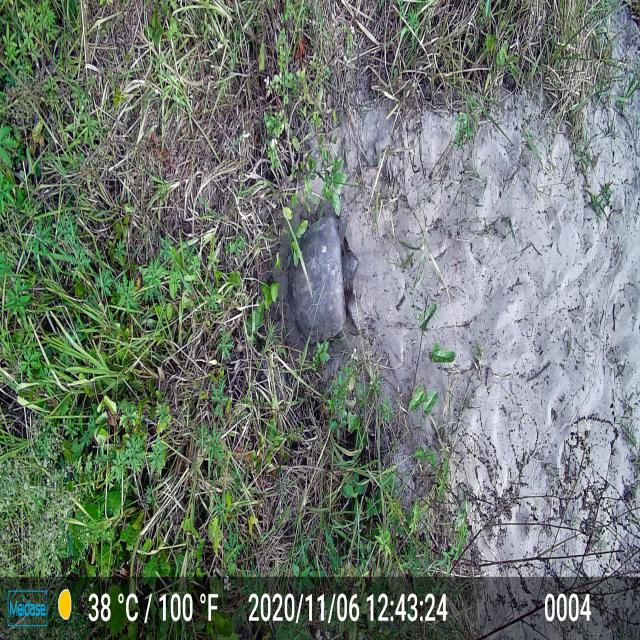tortoise: (278, 192, 358, 349)
